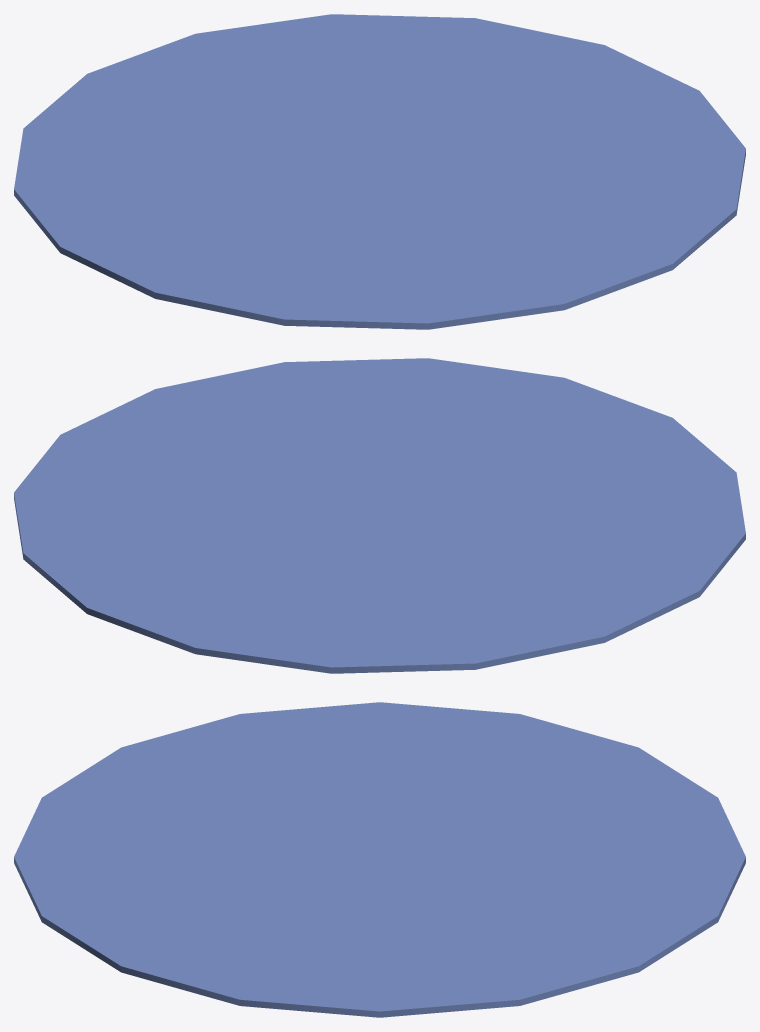
Rendered from floor.glb.
The picture shows the model from 3 angles, top to bottom: view 1: azimuth 30°, elevation 25°; view 2: azimuth 150°, elevation 25°; view 3: azimuth 270°, elevation 25°; orthographic projection.
Parts seen in each view (by area): view 1: floor.001; view 2: floor.001; view 3: floor.001.
Part boxes in pixels (x1,y1,x2,y2): floor.001: [14, 14, 745, 329]; floor.001: [14, 358, 745, 673]; floor.001: [14, 702, 745, 1017].
Size of the model in its own units: 26.29 by 0.2473 by 26.29.
